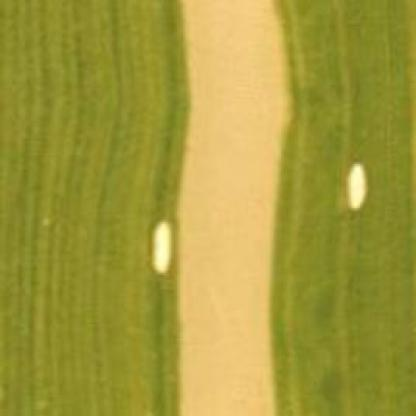whorl-maggot: (344, 156, 373, 218), (150, 214, 176, 272)
